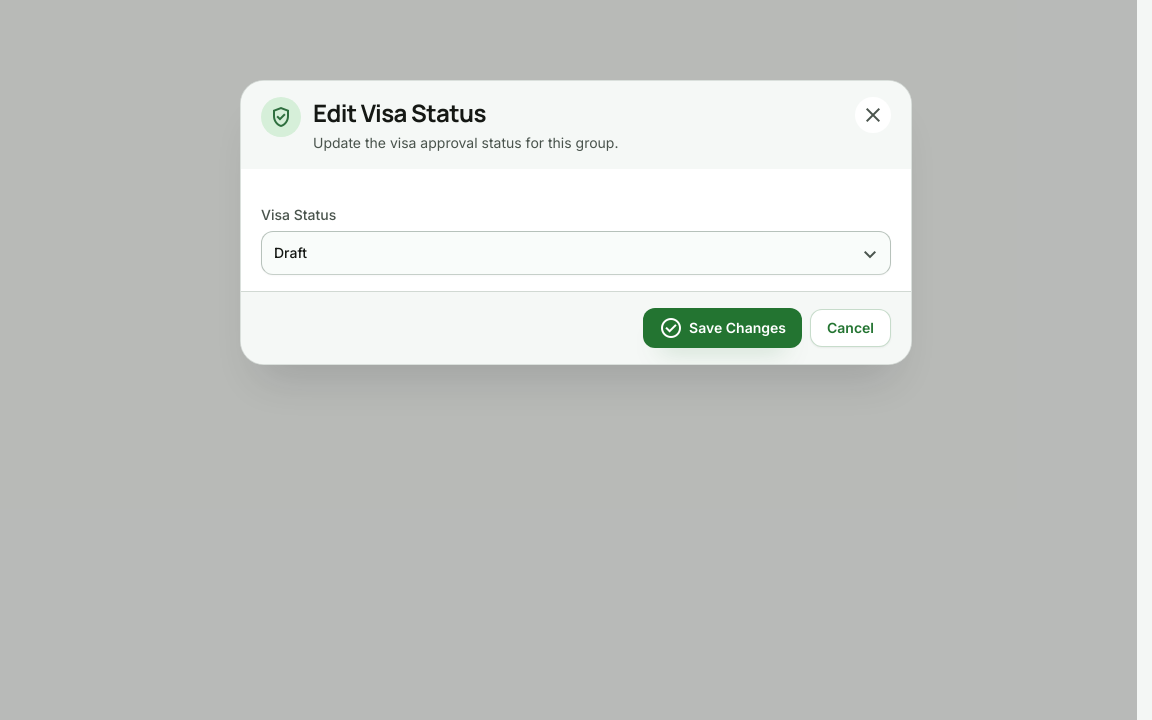
Scenario: VisaStatusModal › shows the issued date field once Issued is selected
Expected: the text "Issued Date" is not shown
Click the button "Draft": (290, 252) [261, 231, 891, 275]
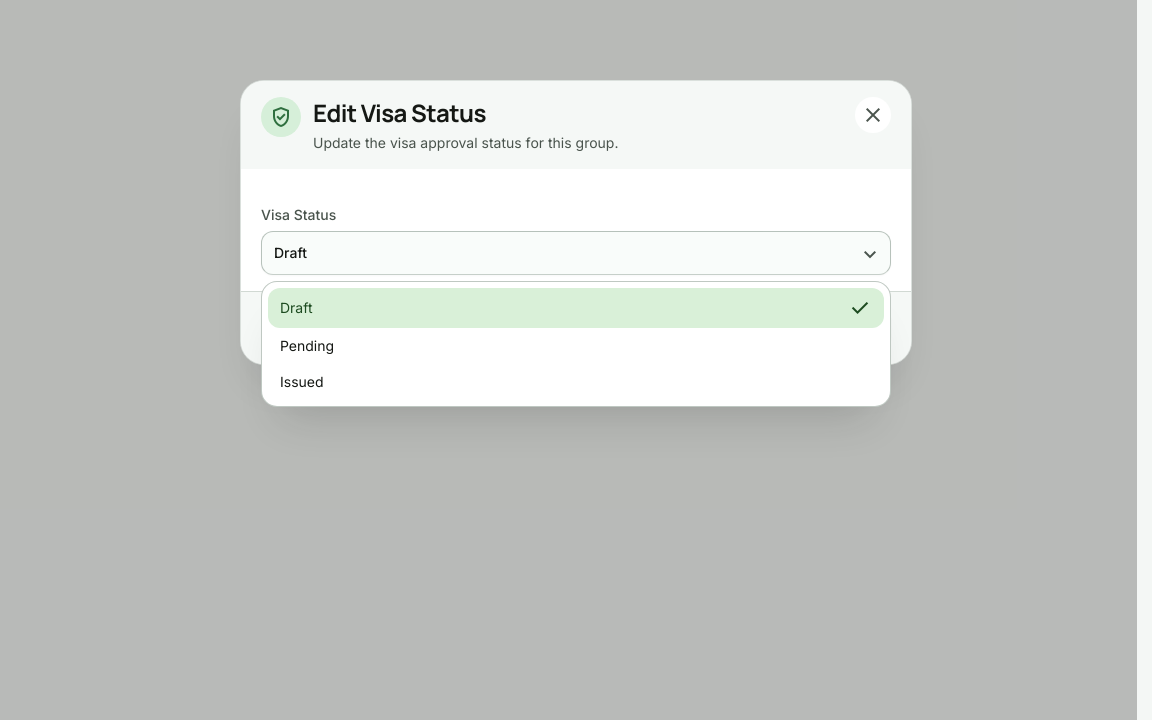
Click the option "Issued": (302, 382) [268, 364, 884, 400]
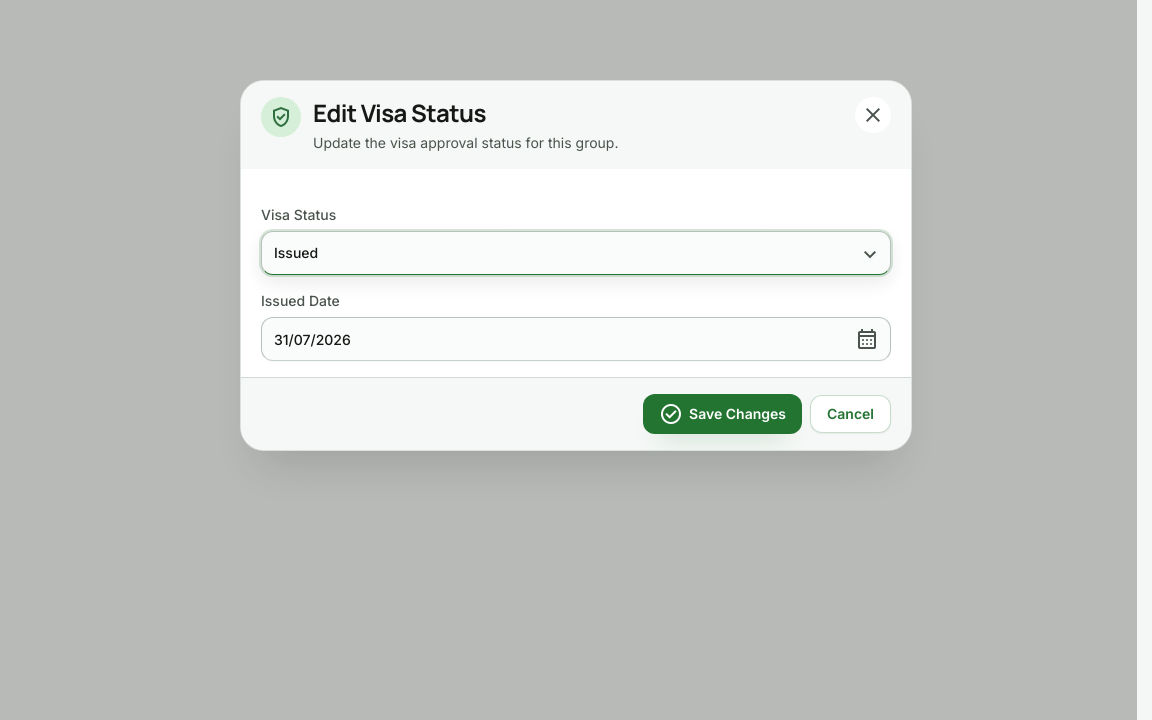
Expected: the text "Issued Date" is shown, [261, 292, 340, 309]
